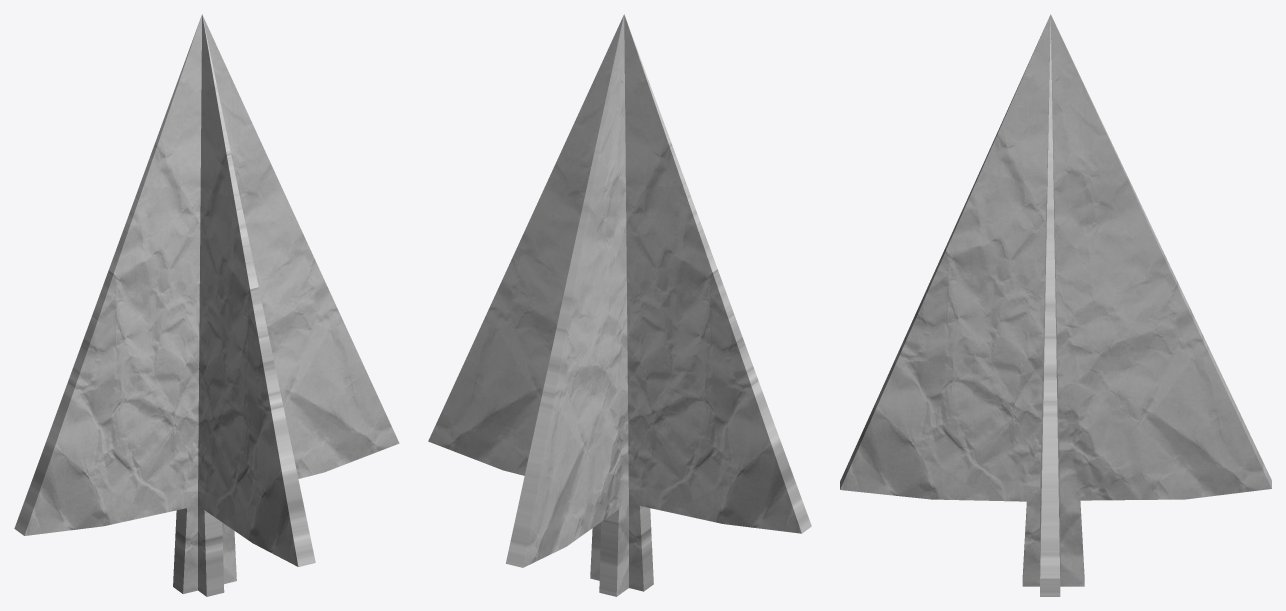
File: TreeWhite_4.fbx
3 renders of one model, left to right at view 1: azimuth 30°, elevation 25°; view 2: azimuth 150°, elevation 25°; view 3: azimuth 270°, elevation 25°, orthographic.
Visible parts, largest first — view 1: Plane.001; view 2: Plane.001; view 3: Plane.001.
Boxes of the visible parts, x1,y1,x2,y2 form: Plane.001: [14, 14, 399, 596]; Plane.001: [428, 14, 811, 596]; Plane.001: [840, 14, 1271, 596].
Bounding box in the file's own units: 202 × 293 × 202.
